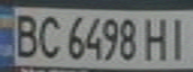4: (84, 14, 103, 61)
6: (63, 12, 87, 61)
8: (118, 15, 142, 62)
9: (100, 15, 121, 61)
B: (9, 10, 42, 60)
C: (33, 11, 63, 60)
H: (139, 14, 172, 62)
I: (163, 14, 193, 61)
